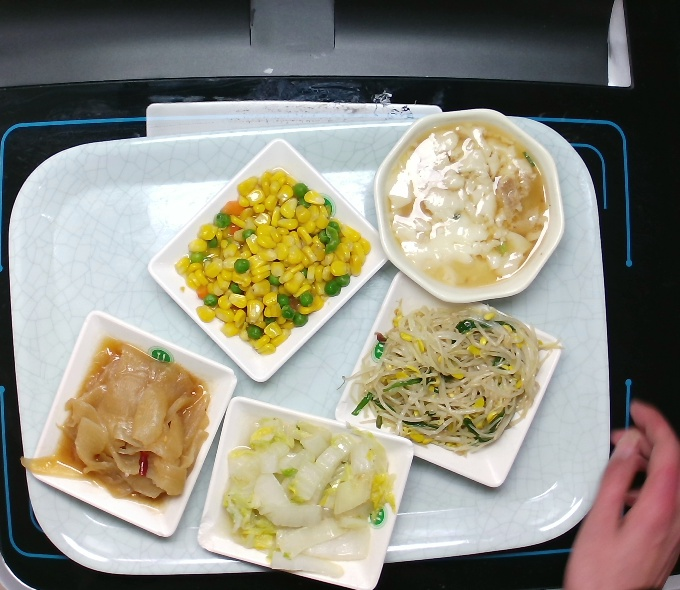wcq-DaBaiCai: (218, 410, 405, 582)
wcq-DongGua: (15, 333, 218, 519)
wcq-DouYa: (331, 294, 567, 461)
wcq-ShuiZhengDan: (379, 113, 554, 292)
wcq-TianMiTianDou: (171, 164, 378, 362)
